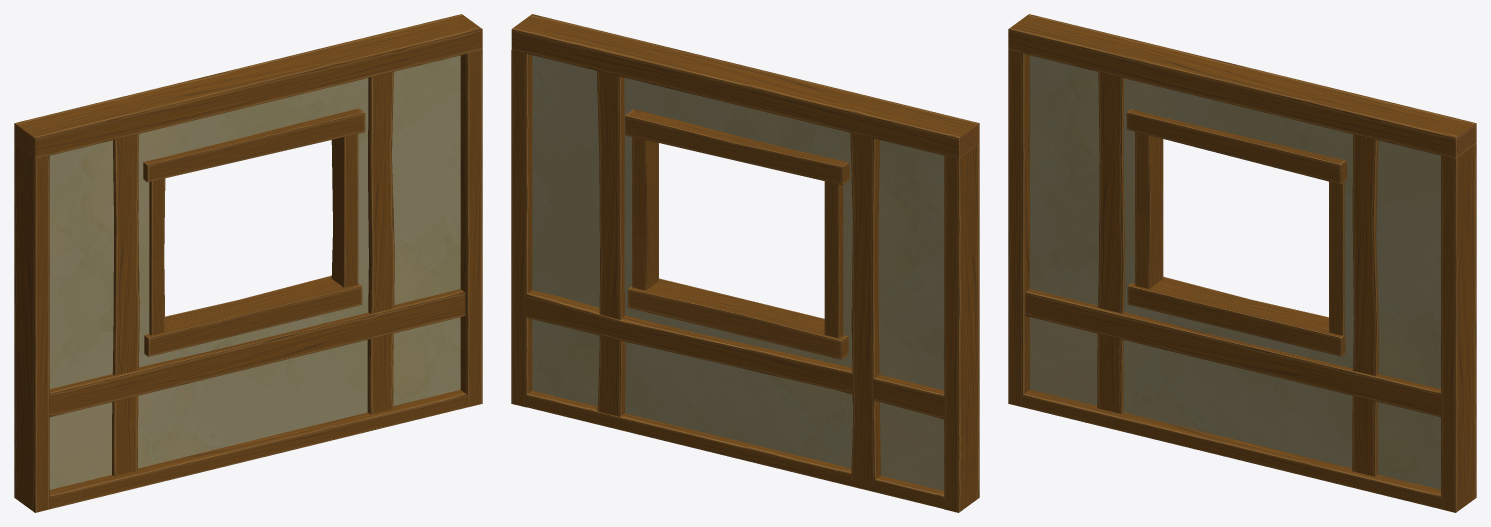
Rendered from SM_House_Wall_5x4_Window_B_01.fbx.
The picture shows the model from 3 angles, left to right: view 1: azimuth 30°, elevation 25°; view 2: azimuth 150°, elevation 25°; view 3: azimuth 330°, elevation 25°; orthographic projection.
Visible parts, largest first — view 1: SM_House_Wall_5x4_Window_B_01; view 2: SM_House_Wall_5x4_Window_B_01; view 3: SM_House_Wall_5x4_Window_B_01.
Boxes of the visible parts, left/top/right/bottom form: SM_House_Wall_5x4_Window_B_01: left=14, top=14, right=482, bottom=512; SM_House_Wall_5x4_Window_B_01: left=511, top=14, right=979, bottom=512; SM_House_Wall_5x4_Window_B_01: left=1008, top=14, right=1476, bottom=512.
Bounding box in the file's own units: 5 × 4 × 0.4555.
